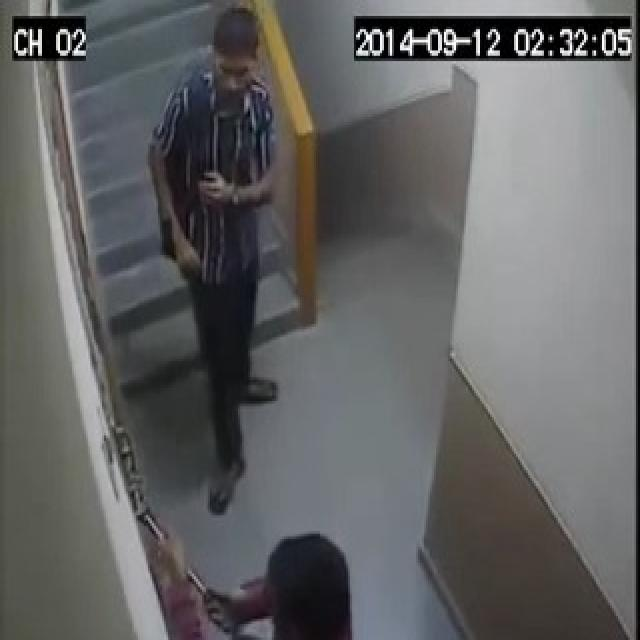burglary: (116, 487, 357, 640)
